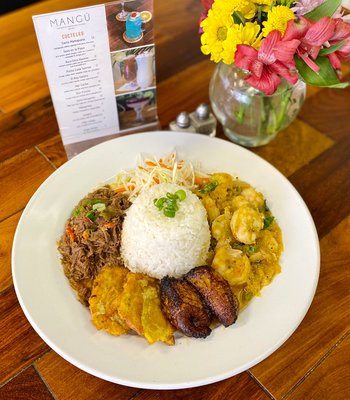sushi: (10, 129, 326, 400)
